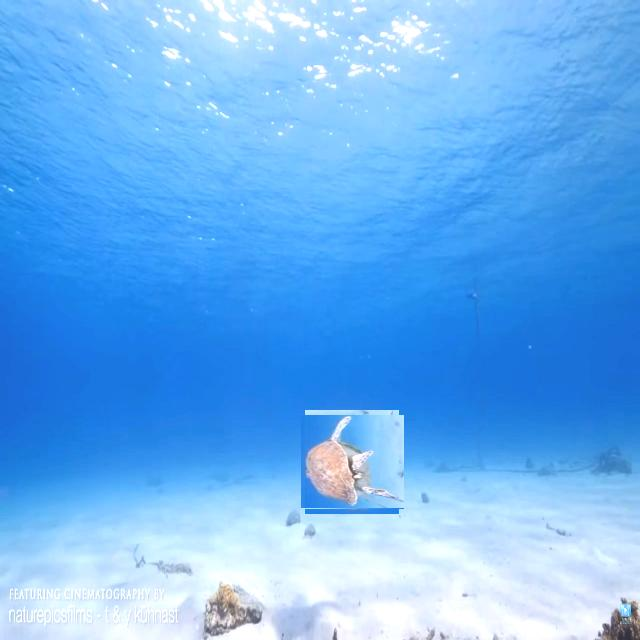Sea turtle: (303, 413, 402, 511)
